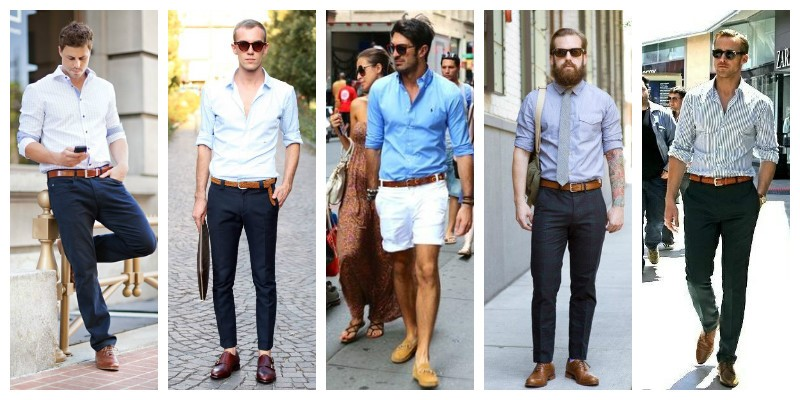C_shorts: (371, 187, 452, 258)
F_belt: (43, 160, 117, 184), (538, 172, 604, 196), (208, 169, 281, 190), (373, 171, 448, 190), (683, 170, 759, 187)
F_dress pants: (49, 184, 156, 336), (204, 192, 285, 344), (530, 190, 601, 358), (684, 188, 755, 344)
F_shirt: (23, 68, 128, 172), (522, 82, 626, 187)
F_tie: (555, 93, 573, 187)
